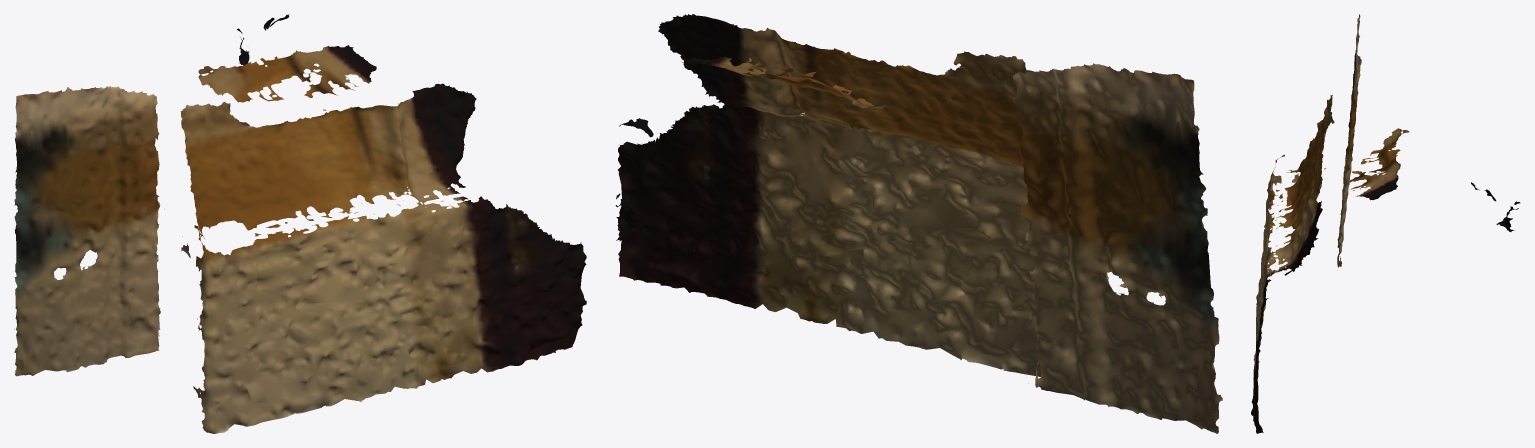
File: color_model_f003_20260211_234601.obj
3 views of the same model, side by side, from view 1: azimuth 30°, elevation 25°; view 2: azimuth 150°, elevation 25°; view 3: azimuth 270°, elevation 25° (orthographic). The views are drawn at different scales.
Size of the model in its own units: 2.11 by 1.27 by 1.28.
